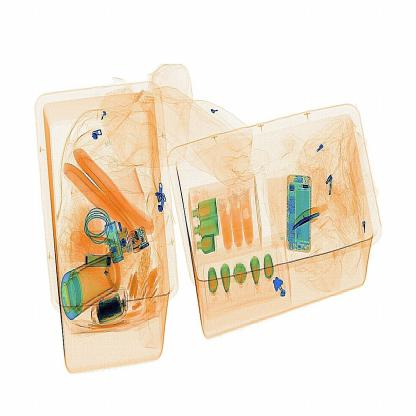pliers: (292, 210, 334, 234)
